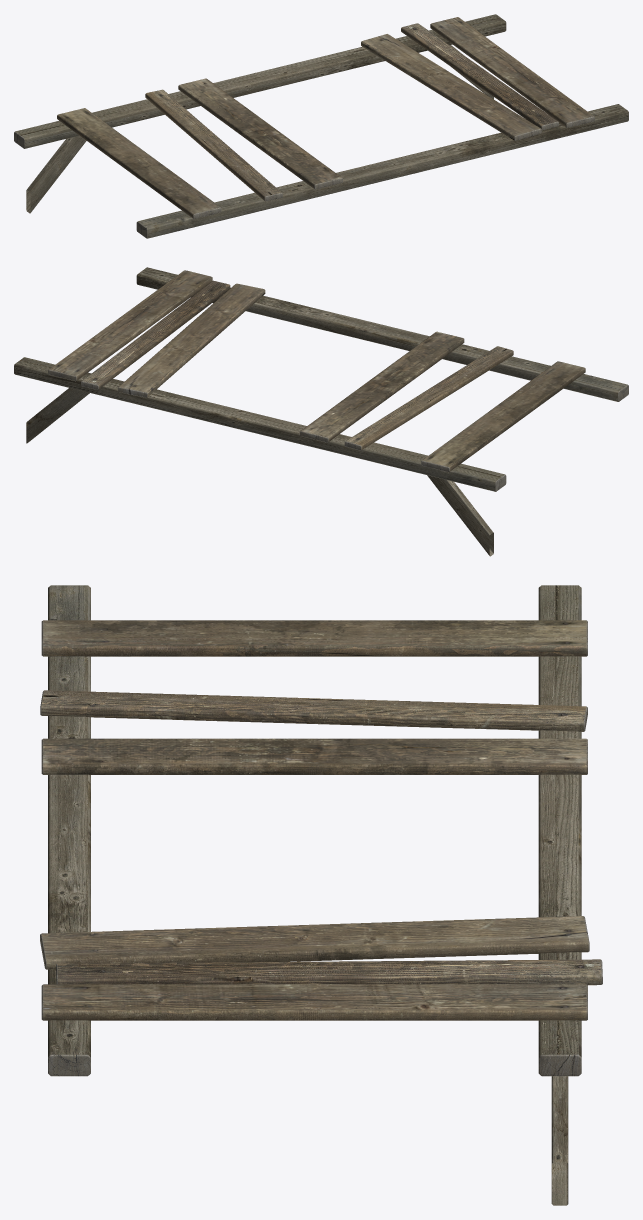
File: Porch_shead2.fbx
3 renders of one model, top to bottom at view 1: azimuth 30°, elevation 25°; view 2: azimuth 150°, elevation 25°; view 3: azimuth 270°, elevation 25°, orthographic. The views are drawn at different scales.
Visible parts, largest first — view 1: polySurface219; view 2: polySurface219; view 3: polySurface219.
Boxes of the visible parts, x1,y1,x2,y2 form: polySurface219: [14, 14, 628, 238]; polySurface219: [14, 267, 628, 556]; polySurface219: [40, 585, 602, 1205].
Bounding box in the file's own units: 398 × 66.46 × 201.
1 material, 1 textured.
